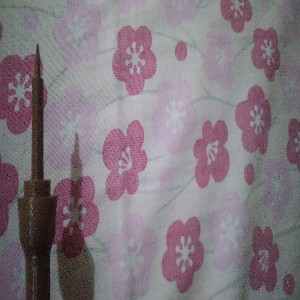solder: (16, 41, 58, 300)
